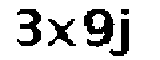3: (13, 4, 44, 50)
9: (84, 7, 116, 50)
j: (113, 2, 136, 60)
x: (44, 16, 82, 56)
